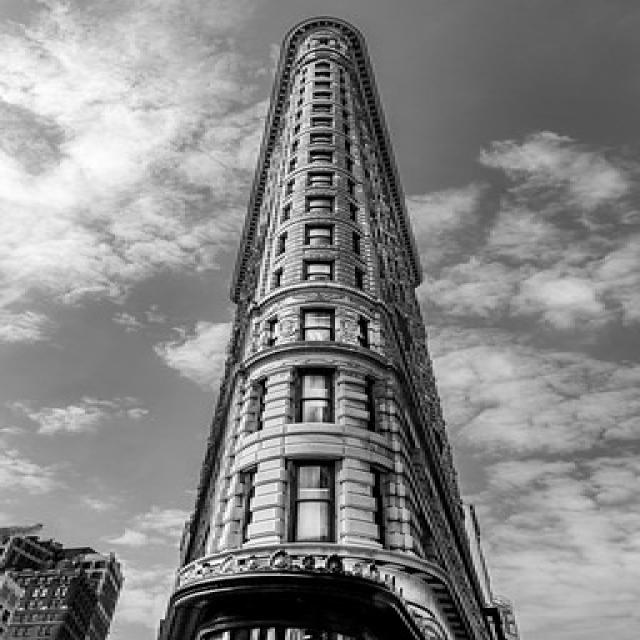Normal_building: (150, 8, 525, 638)
